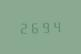four: (51, 19, 61, 33)
nine: (40, 19, 50, 33)
six: (29, 20, 39, 34)
two: (18, 20, 28, 34)
